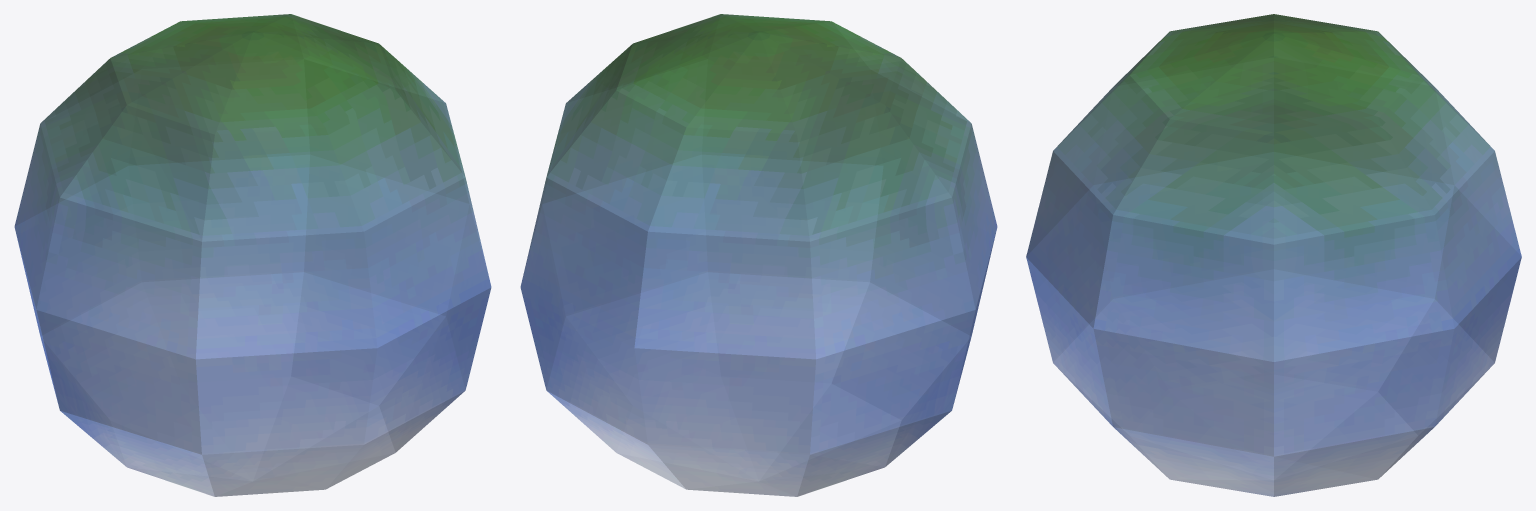
Rendered from water_bomb.obj.
The picture shows the model from 3 angles, left to right: view 1: azimuth 30°, elevation 25°; view 2: azimuth 150°, elevation 25°; view 3: azimuth 270°, elevation 25°; orthographic projection.
Parts seen in each view (by area): view 1: water_bomb; view 2: water_bomb; view 3: water_bomb.
Boxes of the visible parts, x1,y1,x2,y2 form: water_bomb: [14, 14, 491, 496]; water_bomb: [520, 14, 997, 496]; water_bomb: [1026, 14, 1521, 496].
Bounding box in the file's own units: 15.15 × 15.01 × 15.09.
1 material, 1 textured.
